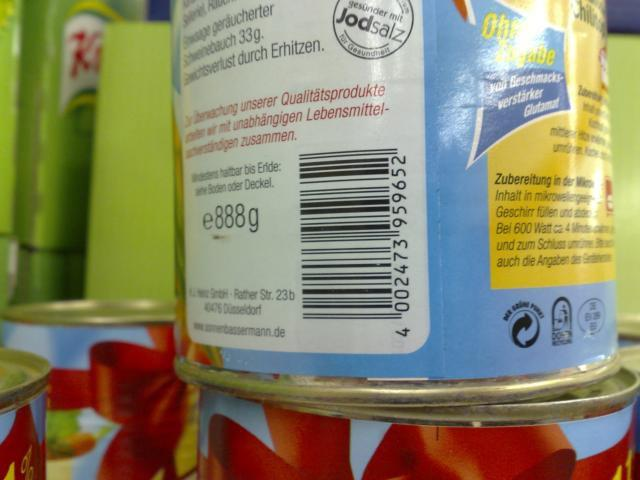Barcode: (292, 143, 421, 345)
